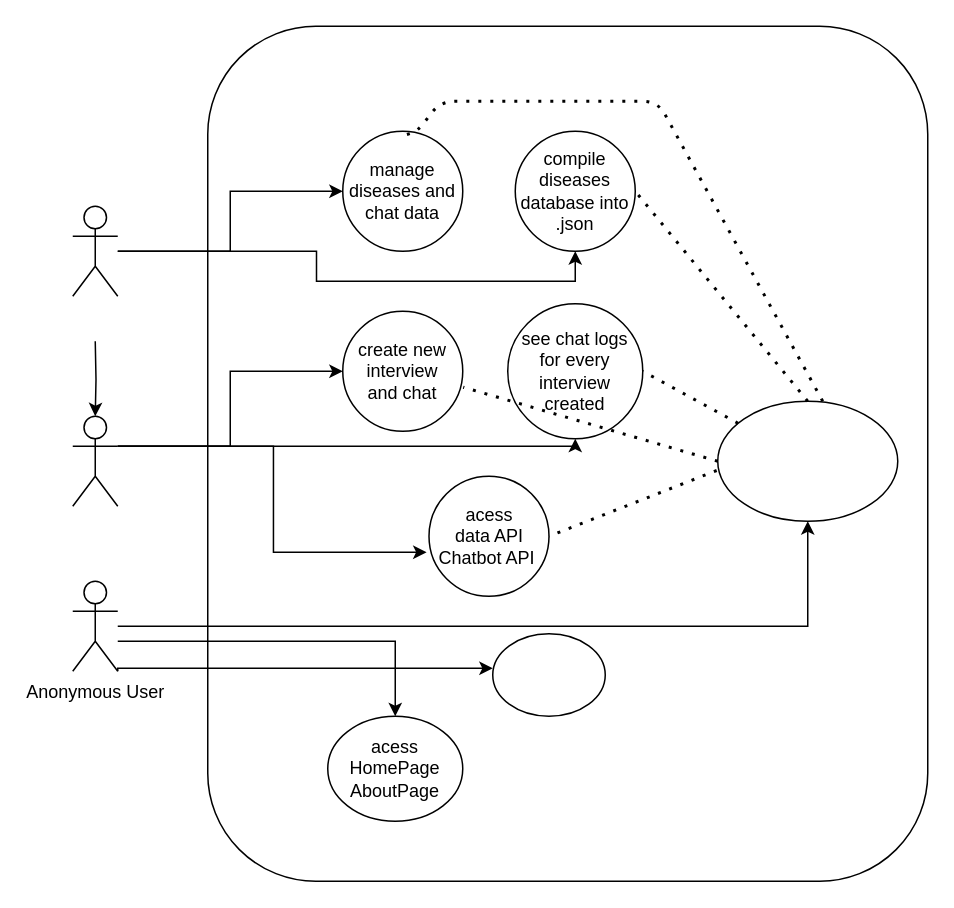
Some shapes in this 954 by 908 pixel diagram are drawn without their labels. The shapes that lost their labels are listed below. From the top down, each one's box as (x1, y1, x2, y2) in pixels, then its label:
(71, 205, 118, 296): admin
(71, 415, 118, 506): user
(716, 400, 898, 521): authentication
(491, 632, 605, 716): create an account
